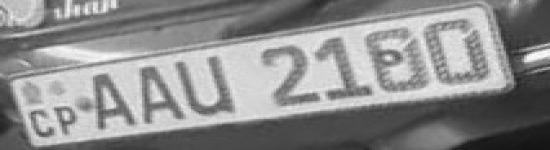0: (419, 18, 492, 86), (363, 27, 432, 93)
1: (313, 34, 376, 100)
2: (256, 45, 324, 106)
A: (88, 70, 140, 130), (138, 64, 189, 124)
C: (27, 108, 58, 139)
P: (54, 104, 79, 136)
U: (173, 56, 242, 118)
